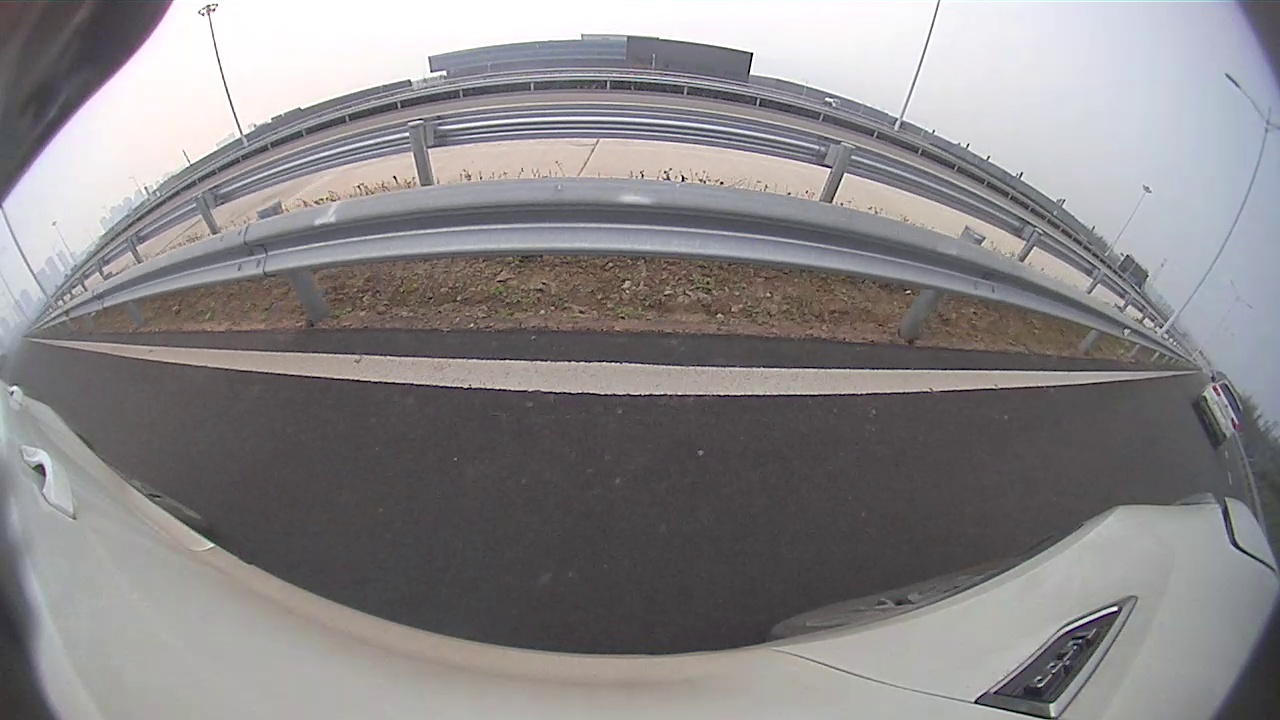car: (258, 137, 494, 284)
front: (470, 189, 491, 227)
rear: (369, 211, 412, 267)
